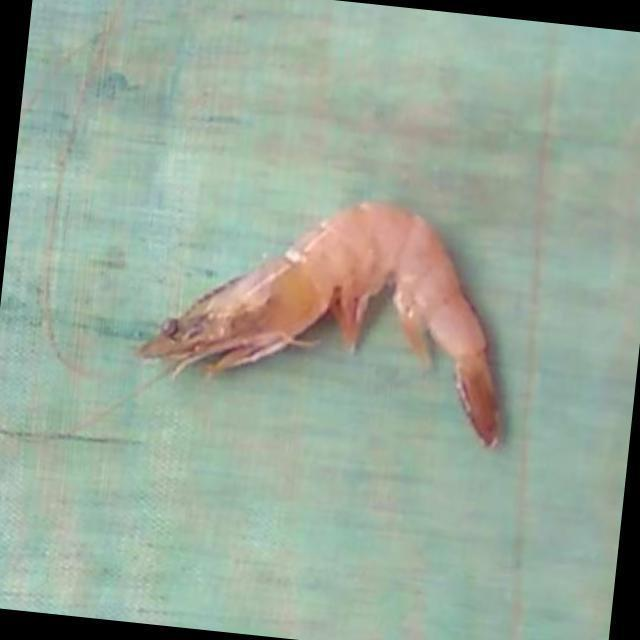shrimp: (138, 202, 502, 448)
